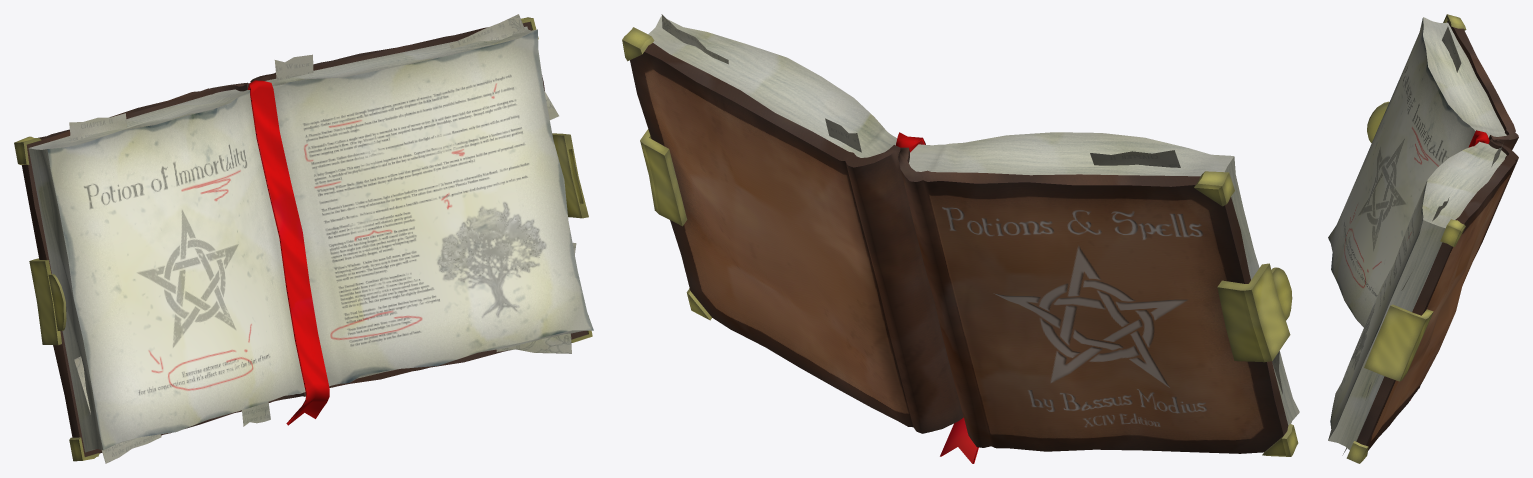
3 renders of one model, left to right at view 1: azimuth 30°, elevation 25°; view 2: azimuth 150°, elevation 25°; view 3: azimuth 270°, elevation 25°, orthographic. The views are drawn at different scales.
Visible parts, largest first — view 1: PotionBook; view 2: PotionBook; view 3: PotionBook.
Boxes of the visible parts, left/top/right/bottom form: PotionBook: left=14, top=14, right=593, bottom=463; PotionBook: left=622, top=14, right=1299, bottom=463; PotionBook: left=1328, top=14, right=1518, bottom=463.
Bounding box in the file's own units: 0.8898 × 0.5439 × 0.3283.
1 material, 1 textured.
